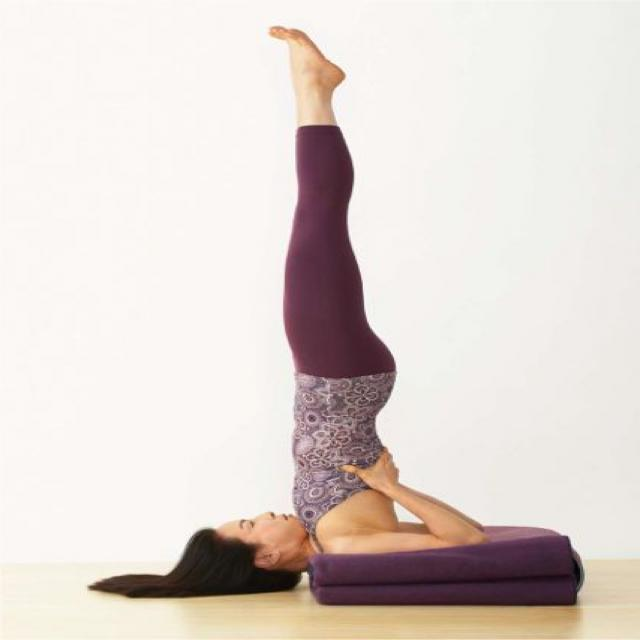yoga-pose shoulderstand: (191, 24, 488, 572)
